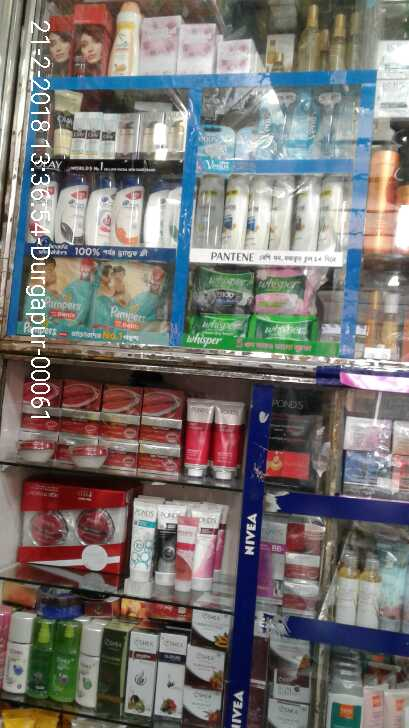venus: (303, 89, 346, 157), (263, 89, 303, 157), (199, 124, 234, 157), (234, 127, 260, 157)
